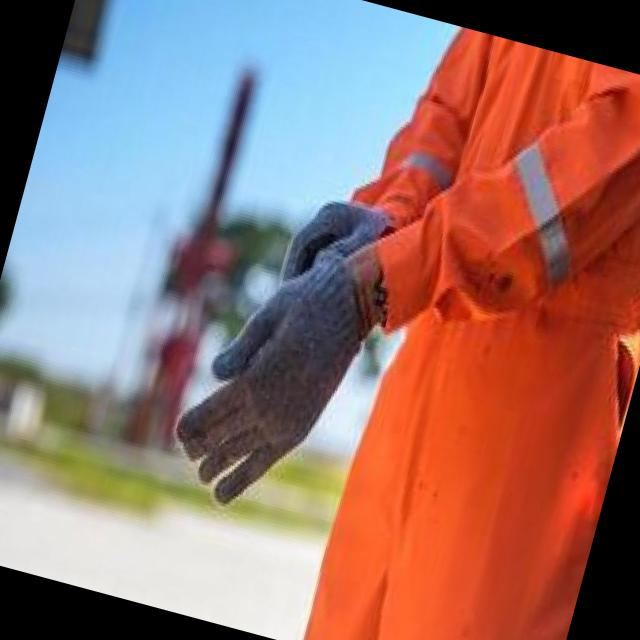Gloves: (166, 206, 398, 528), (275, 164, 408, 310)
